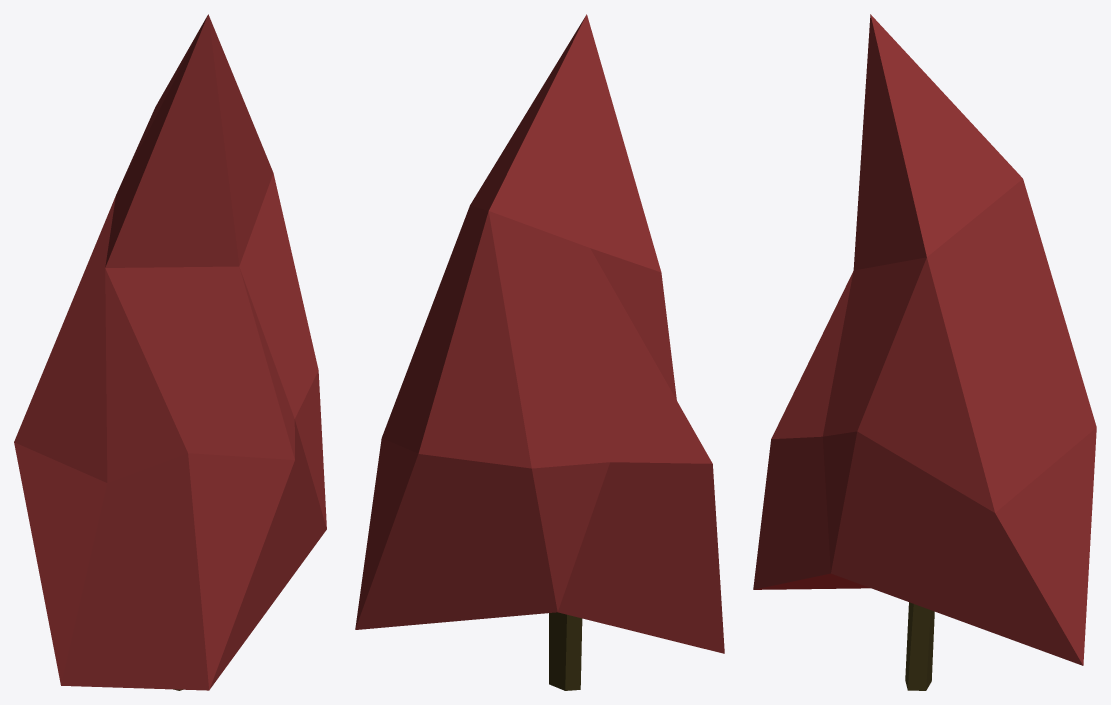
The model's file is TreeAutumn8_Alt3.fbx.
3 views of the same model, side by side, from view 1: azimuth 30°, elevation 25°; view 2: azimuth 150°, elevation 25°; view 3: azimuth 270°, elevation 25° (orthographic). The views are drawn at different scales.
Visible parts, largest first — view 1: TreeAutumn8_Alt3; view 2: TreeAutumn8_Alt3; view 3: TreeAutumn8_Alt3.
Part boxes in pixels (x1,y1,x2,y2): TreeAutumn8_Alt3: [14, 14, 326, 690]; TreeAutumn8_Alt3: [355, 14, 724, 690]; TreeAutumn8_Alt3: [753, 14, 1096, 690].
Size of the model in its own units: 1.32 by 2.74 by 1.27.
